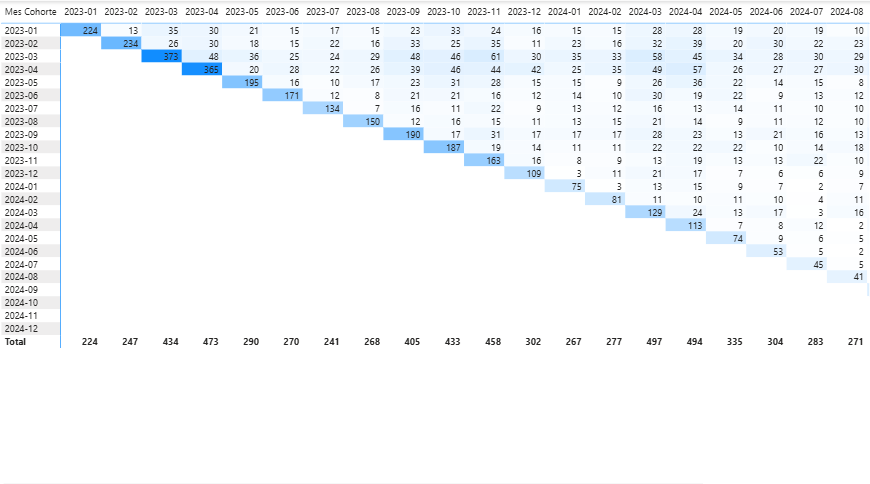

Layout of this report page (visuals, bound fields, positions):
{"tool":"powerbi","page":{"name":"Análisis de Cohortes","canvas":[1280,720],"ordinal":2},"visuals":[{"type":"pivotTable","fields":{"Rows":["hecho_ventas_propiedades.Mes Cohorte"],"Columns":["hecho_ventas_propiedades.Mes Venta"],"Values":["hecho_ventas_propiedades.Cantidad_de_Ventas"]},"box":[0,0,1280.5,720],"z":0}]}

Visuals, with their boxes in screenshot pixels (x1, y1, x2, y2), scaled from the page's 1280x720 canvas onto the 870x484 screenshot:
pivotTable - hecho_ventas_propiedades.Mes Cohorte x hecho_ventas_propiedades.Mes Venta: crop(0, 0, 869, 483)
